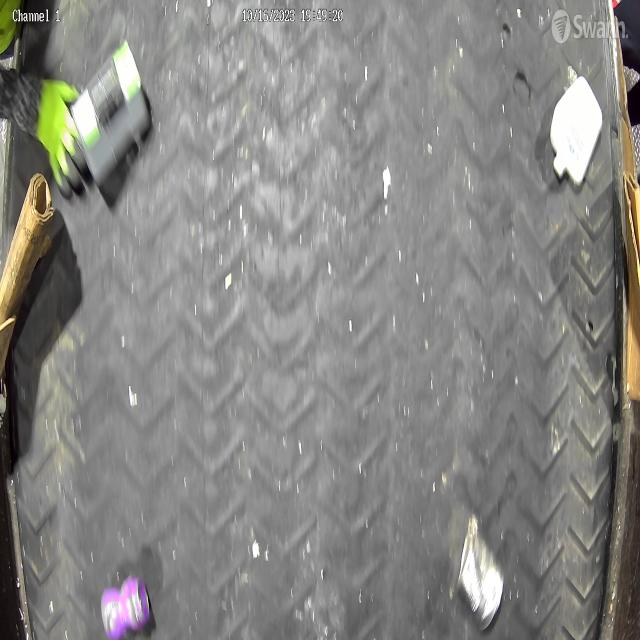can: (456, 513, 505, 633), (100, 573, 152, 640)
